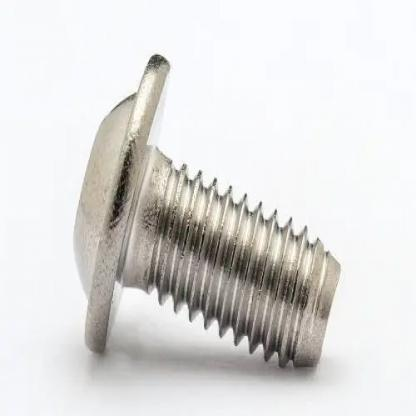FOD: (56, 41, 344, 387)
